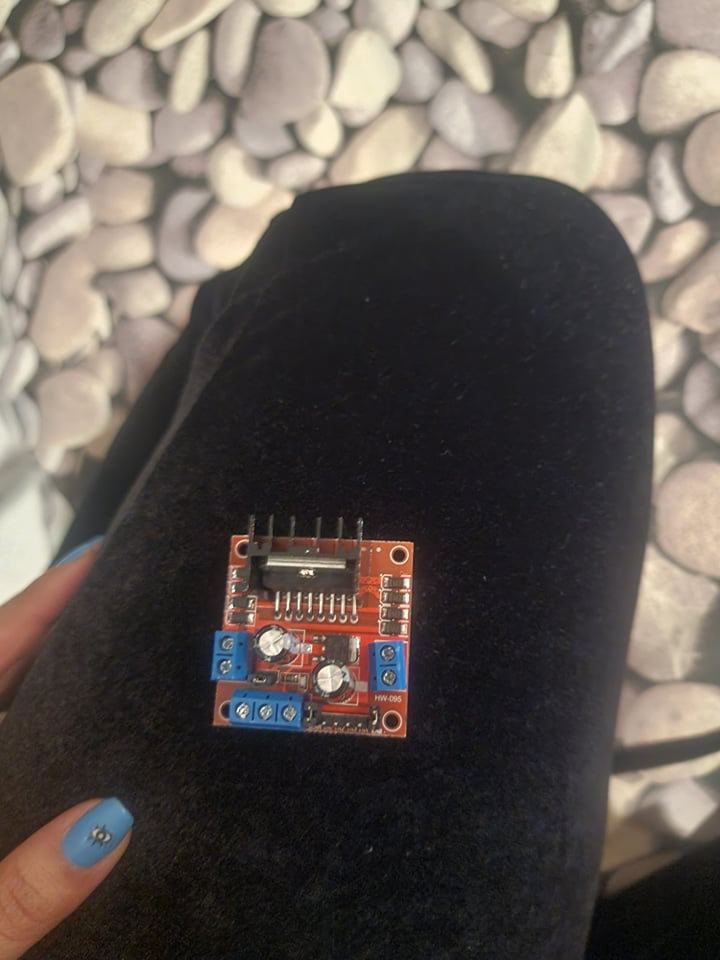MOTOR: (205, 515, 413, 738)
